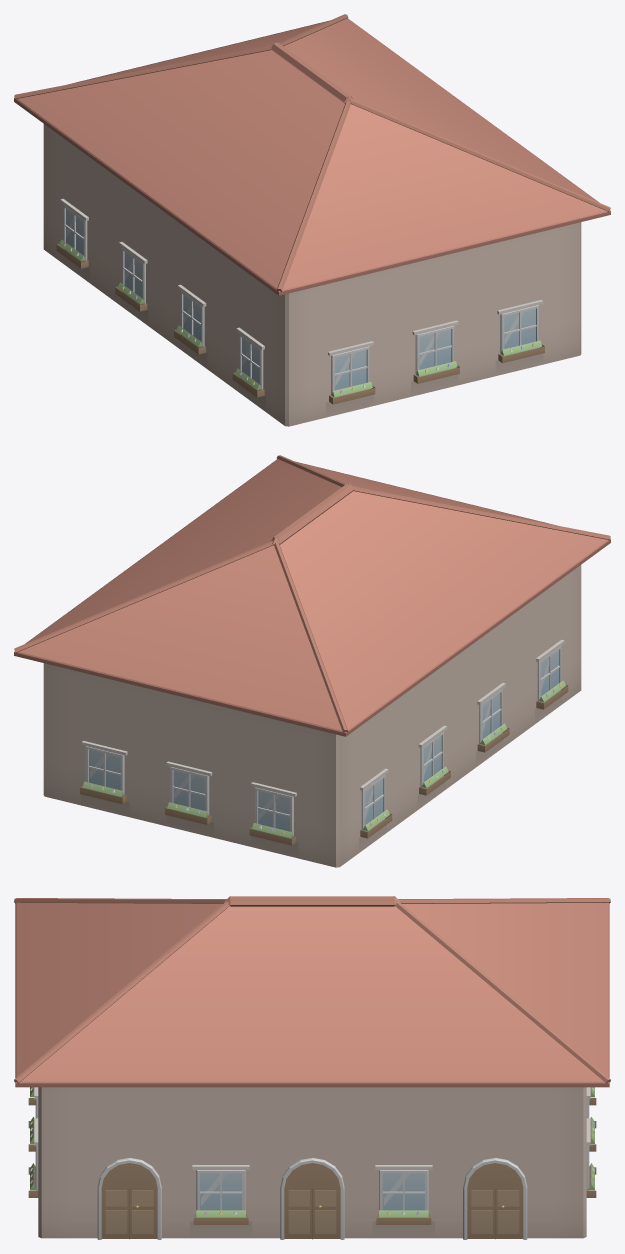
The model's file is bilik_shell.glb.
The picture shows the model from 3 angles, top to bottom: view 1: azimuth 30°, elevation 25°; view 2: azimuth 150°, elevation 25°; view 3: azimuth 270°, elevation 25°; orthographic projection. The views are drawn at different scales.
Visible parts, largest first — view 1: bilik_roof, bilik_body; view 2: bilik_roof, bilik_body; view 3: bilik_roof, bilik_body.
Part boxes in pixels (x1,y1,x2,y2): bilik_roof: [14, 14, 610, 295]; bilik_body: [43, 124, 581, 426]; bilik_roof: [14, 455, 610, 736]; bilik_body: [43, 565, 581, 867]; bilik_roof: [14, 896, 610, 1087]; bilik_body: [28, 1087, 596, 1239].
Size of the model in its own units: 11.83 by 7.88 by 16.33.
